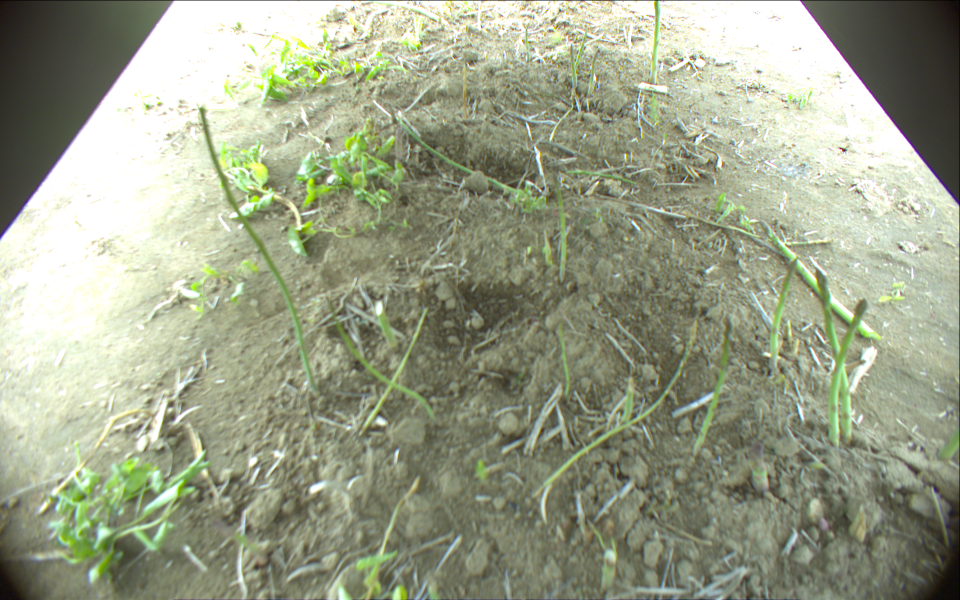aspa: (197, 106, 318, 390), (533, 319, 699, 495), (373, 100, 529, 199), (763, 219, 881, 342), (325, 297, 435, 419), (357, 308, 430, 437), (670, 205, 831, 250), (690, 316, 736, 458), (817, 269, 854, 443), (826, 299, 867, 445), (770, 256, 799, 374), (550, 181, 568, 282), (386, 1, 449, 27), (565, 166, 640, 187), (555, 323, 571, 398), (374, 300, 394, 350), (649, 1, 661, 84), (750, 443, 769, 494), (619, 377, 636, 429), (938, 426, 960, 459), (601, 550, 617, 594), (573, 28, 590, 69), (588, 48, 601, 94), (569, 45, 579, 88), (523, 23, 531, 63)
